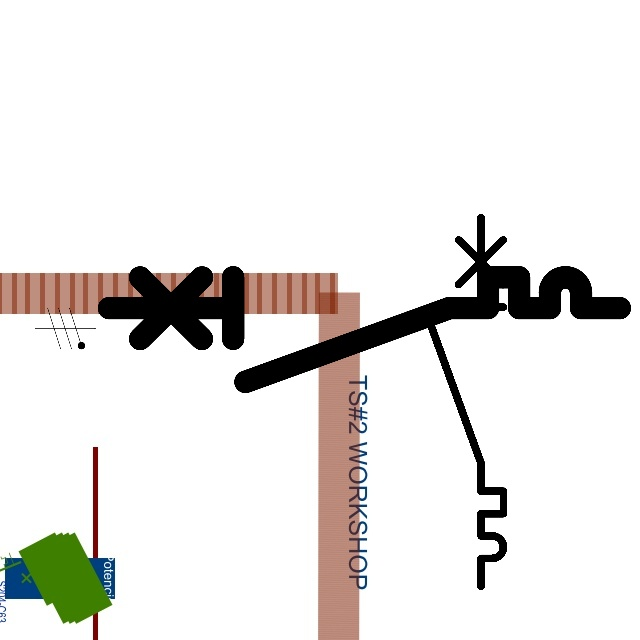interruptor_termomagnetico: (95, 264, 632, 395), (418, 208, 513, 596)
